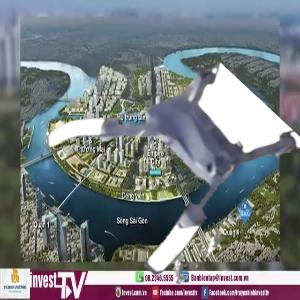drone: (57, 47, 269, 259)
